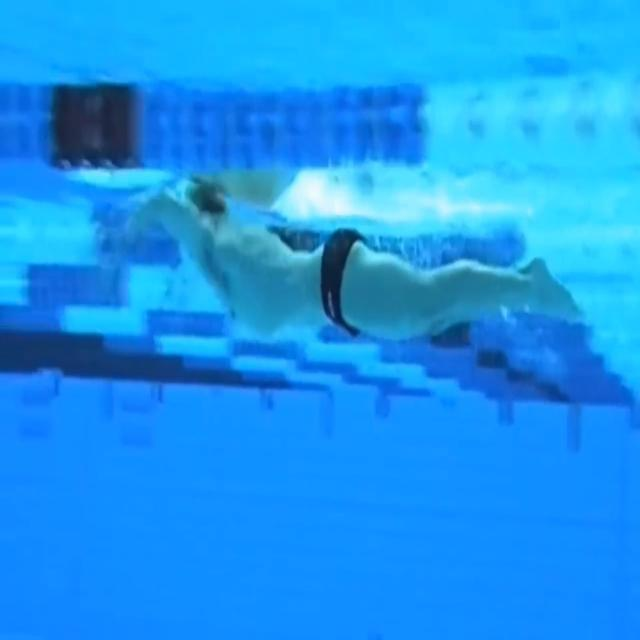Swimming: (134, 182, 589, 345)
